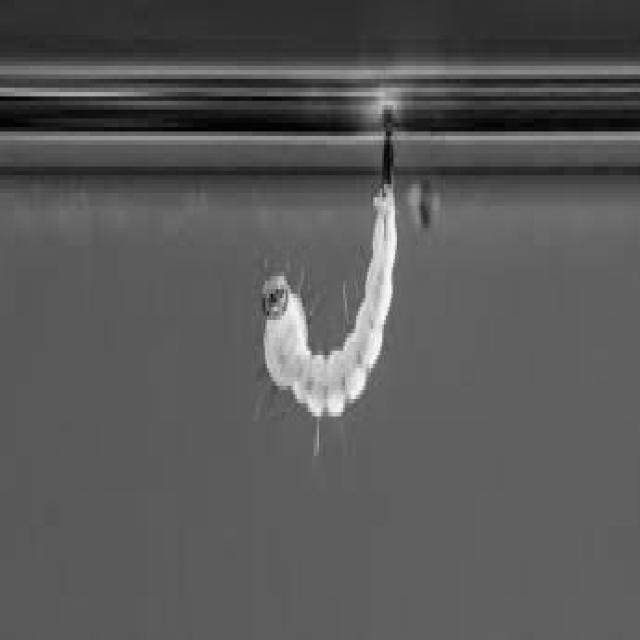larvas: (262, 115, 393, 408)
